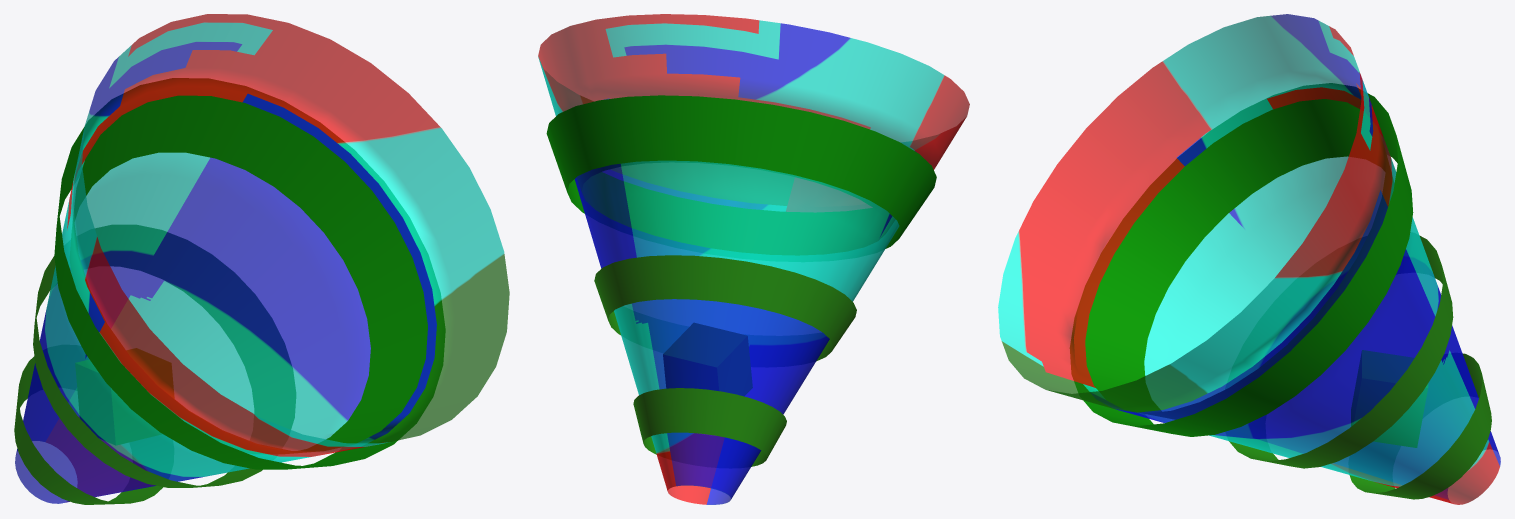
The model's file is Rotation.glb.
The picture shows the model from 3 angles, left to right: view 1: azimuth 30°, elevation 25°; view 2: azimuth 150°, elevation 25°; view 3: azimuth 270°, elevation 25°; orthographic projection. The views are drawn at different scales.
Parts seen in each view (by area): view 1: Cylinder.004; view 2: Cylinder.004; view 3: Cylinder.004.
Boxes of the visible parts, left/top/right/bottom form: Cylinder.004: left=14, top=14, right=509, bottom=504; Cylinder.004: left=538, top=14, right=969, bottom=504; Cylinder.004: left=998, top=14, right=1500, bottom=504.
Size of the model in its own units: 2.65 by 3.06 by 2.92.
4 materials, 1 textured.
